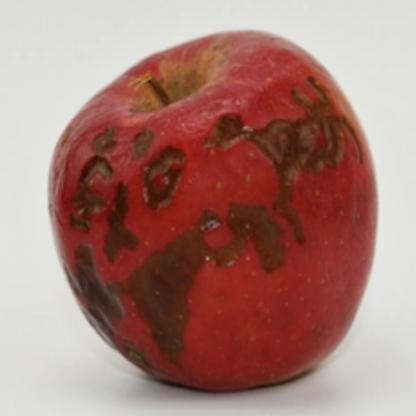Rotten Apple: (47, 32, 382, 389)
